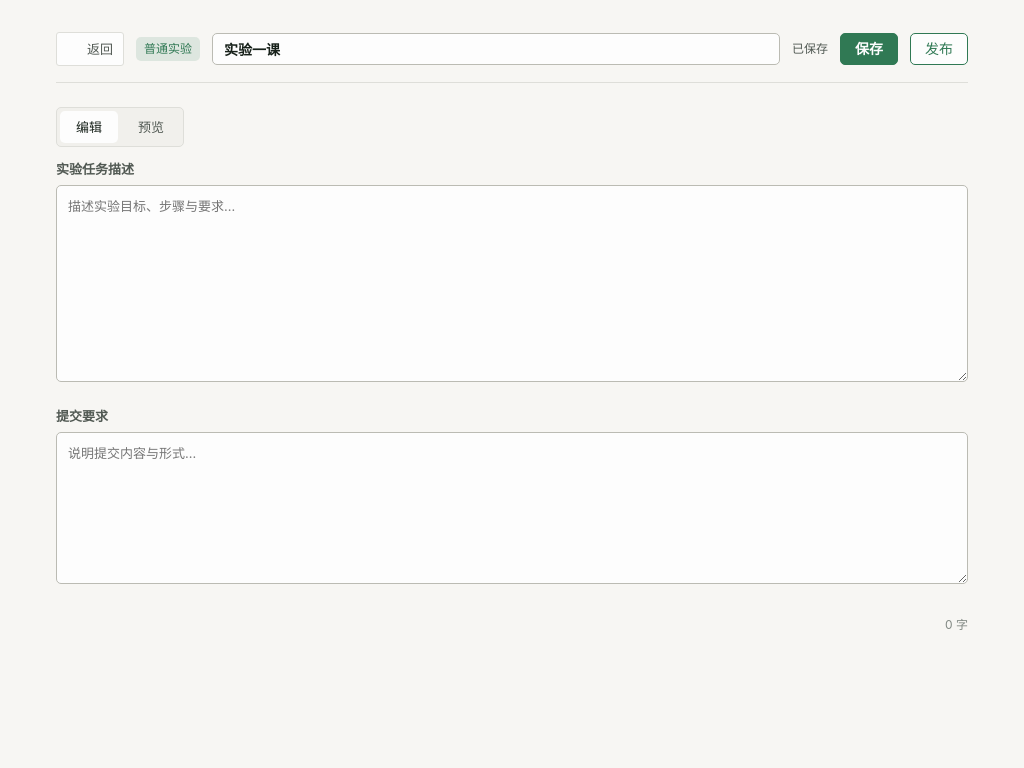
Scenario: LessonExperimentEditor › 预览模式渲染拼接后的 markdown
In the text box with id "experiment-task": [512, 284] box x1=56 y1=185 x2=968 y2=382, type "任务A"
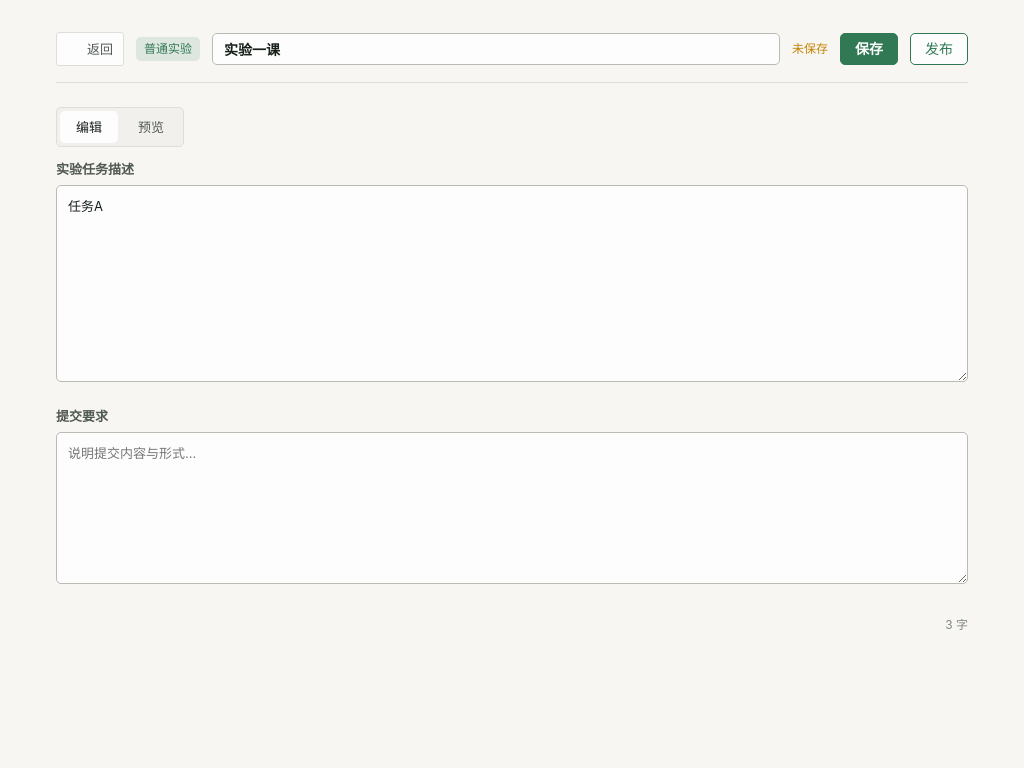
Click the button "预览": [151, 127] box x1=122 y1=111 x2=180 y2=143
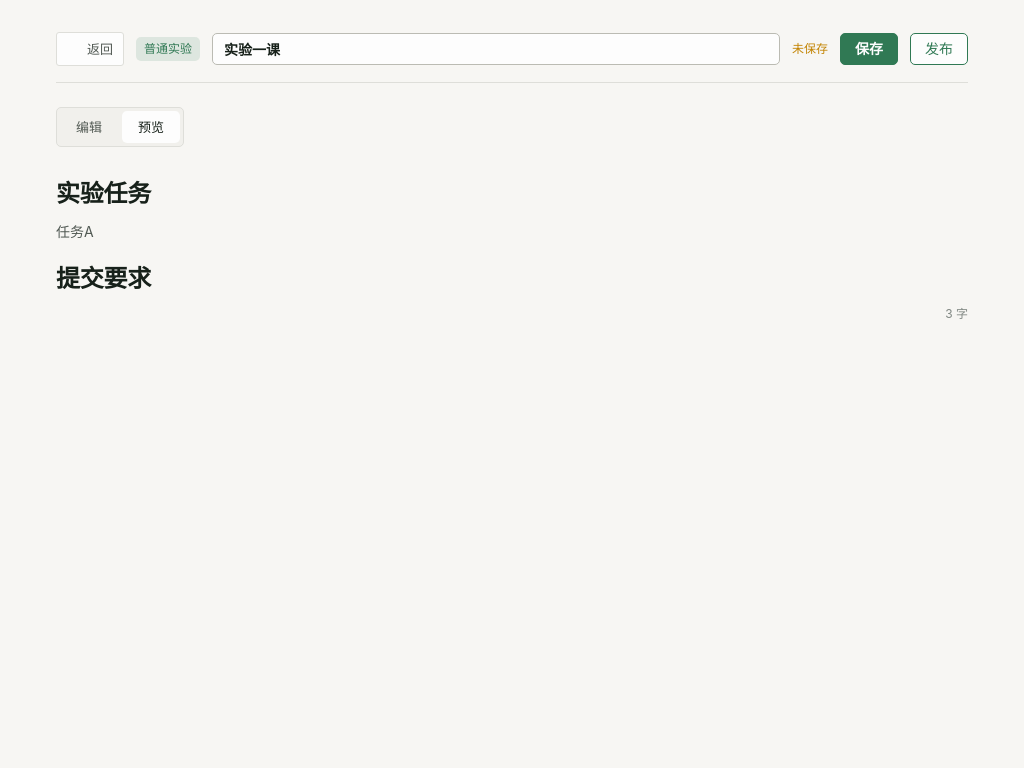
Expected: the element with class "lesson-content" shows "任务A", x1=56 y1=223 x2=94 y2=240
Expected: the element with class "lesson-content" shows "提交要求", x1=56 y1=266 x2=151 y2=292
